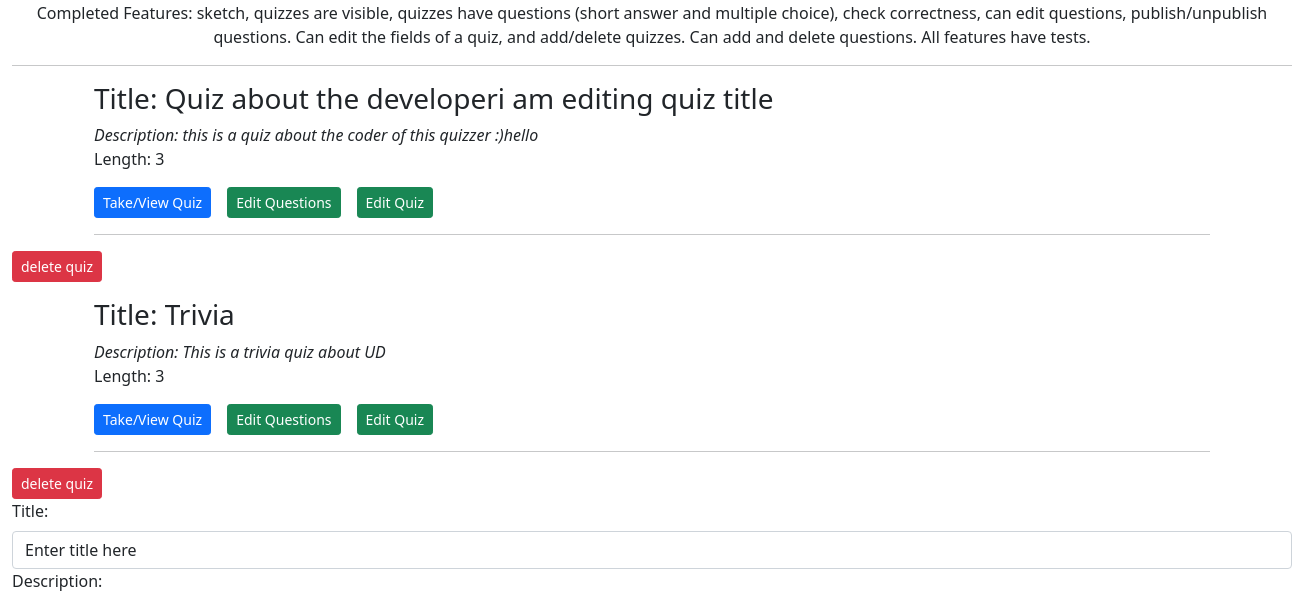
Scenario: Quizzer Tests › Edit Points
The image size is (1304, 601).
(page scrolled)
Click the 1st button "Edit Questions". click: (284,203)
box: [227,187,341,218]
(page scrolled)
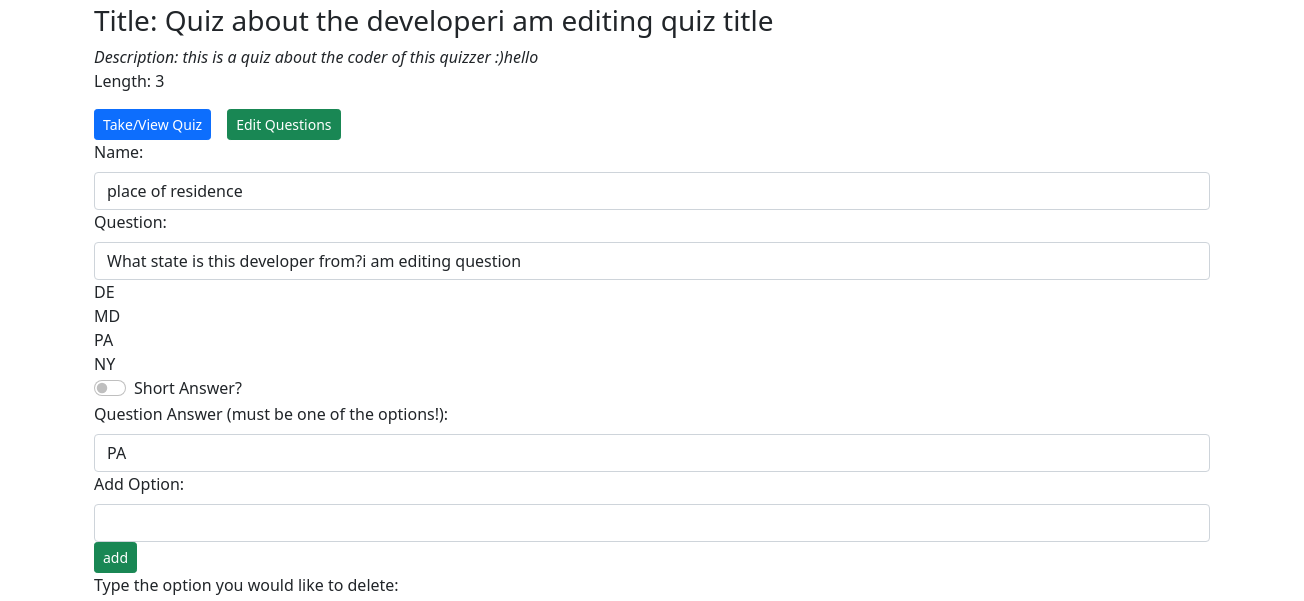
Type "5" into the field labelled "Question Answer (must be one of the options!):". click: (652,453)
box: [94,434,1210,472]
(page scrolled)
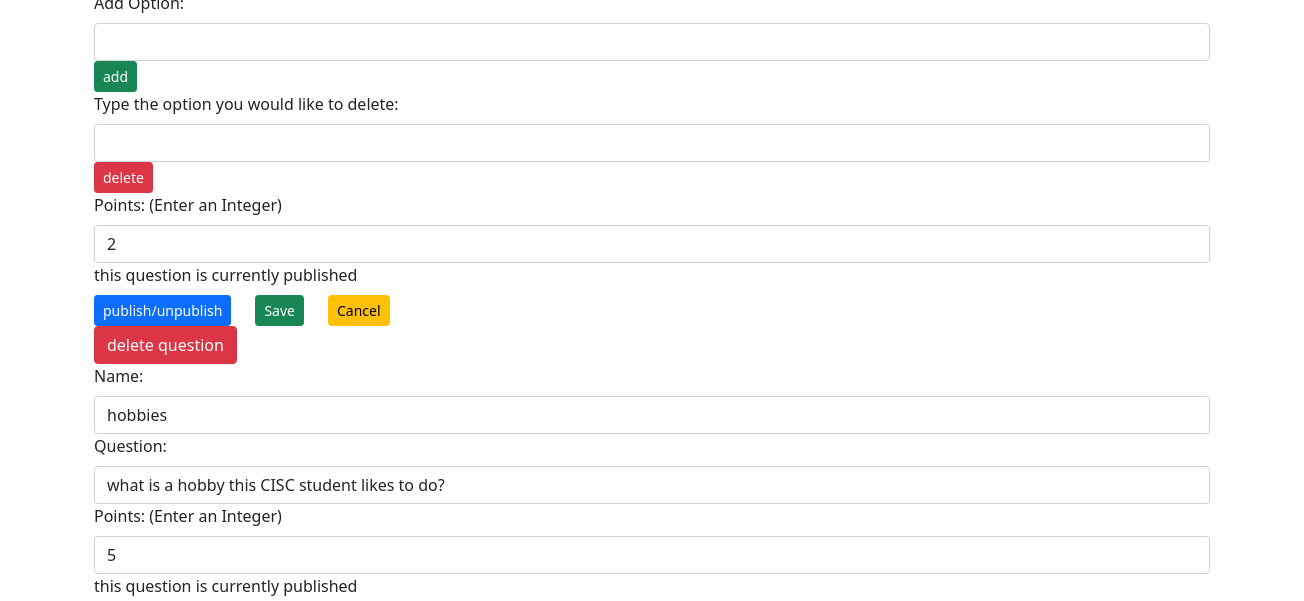
Click the button with test id "save". click: (280,311)
box: [255,295,304,326]
(page scrolled)
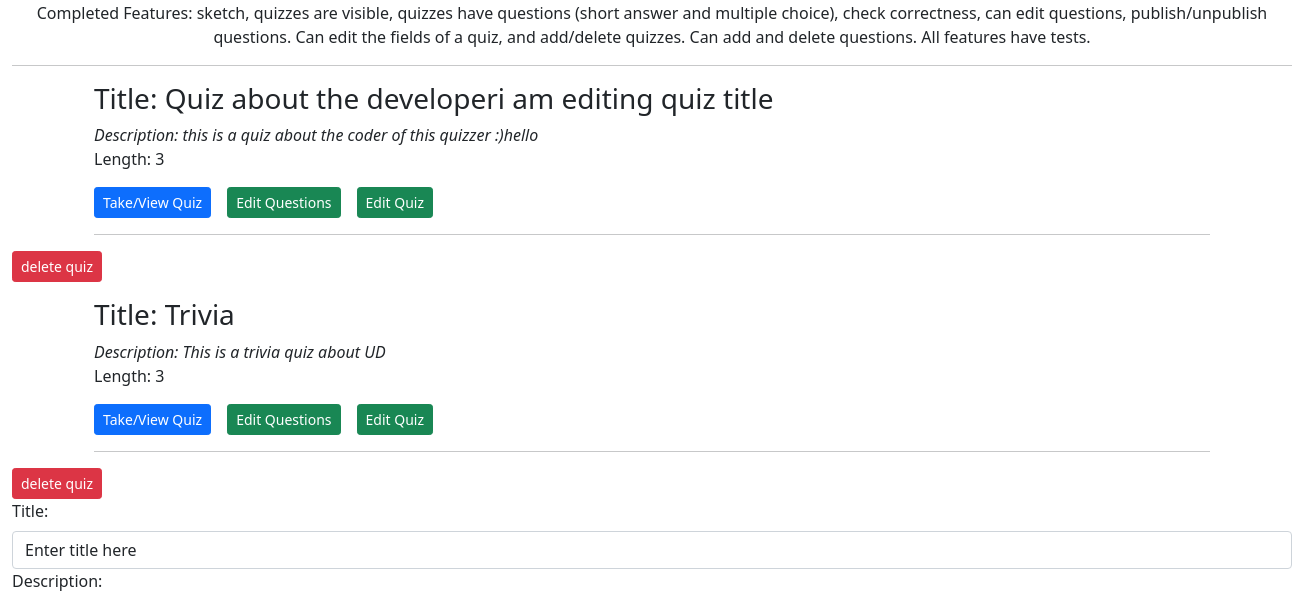
Click the 1st button "Take/View Quiz". click: (153,203)
box: [94,187,211,218]
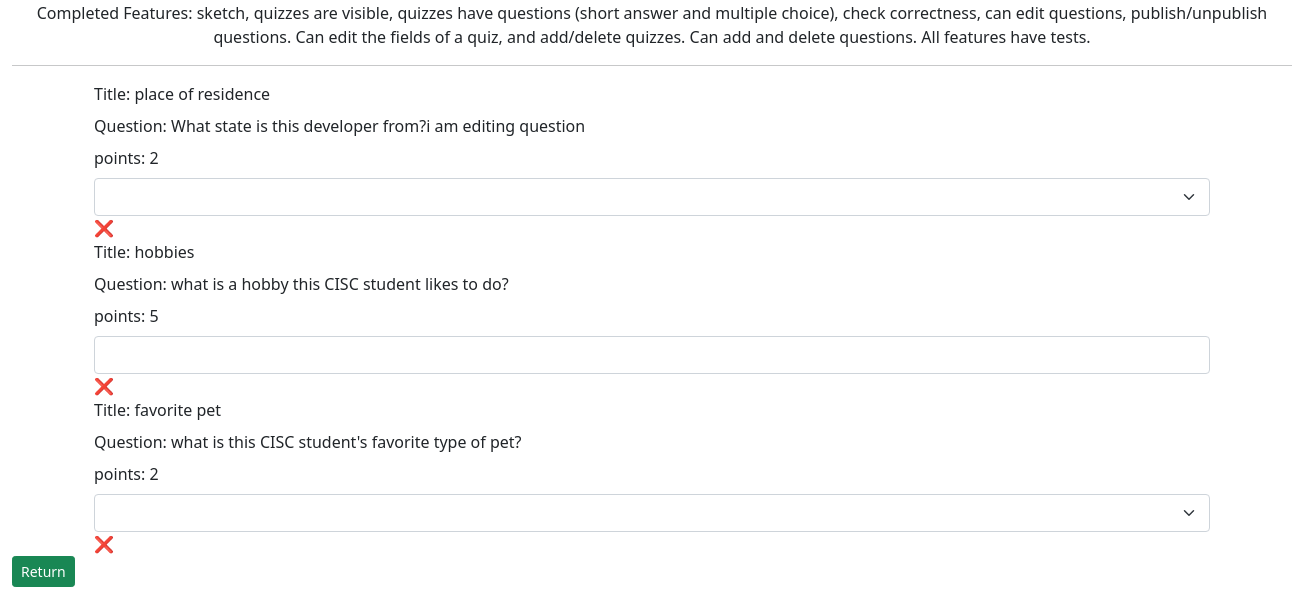
Result: the text "points: 5" is shown at [94,304,159,328]
